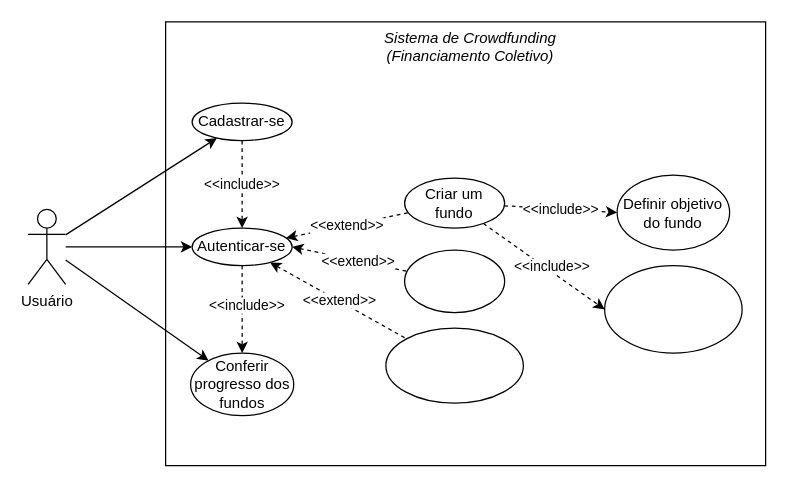
Image size: 788x488. Some labels were removed from this diagram. Each missing label, with the centre of its shape:
Definir meta de capital total do fundo: (672,308)
Fazer depósito num fundo: (454,280)
Sacar montante total do fundo: (454,365)
